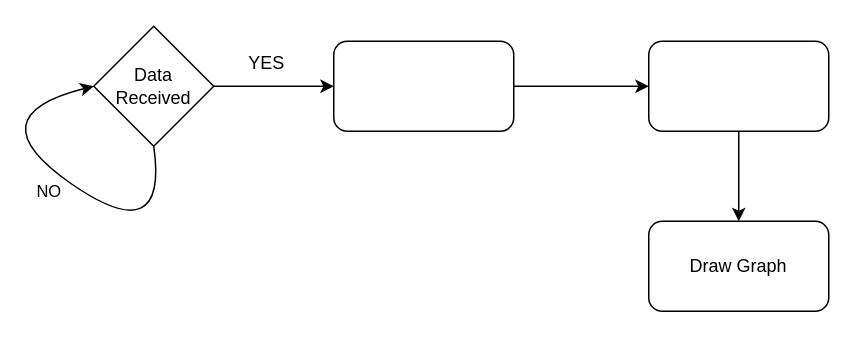
Some shapes in this 857 by 338 pixel diagram are drawn without their labels. The centre of each missing label's shape, as x and y in pixels:
"Add Sampled Sensor Data to Graph" goes at [738,85].
"Update Sensor Display" goes at [423,85].
